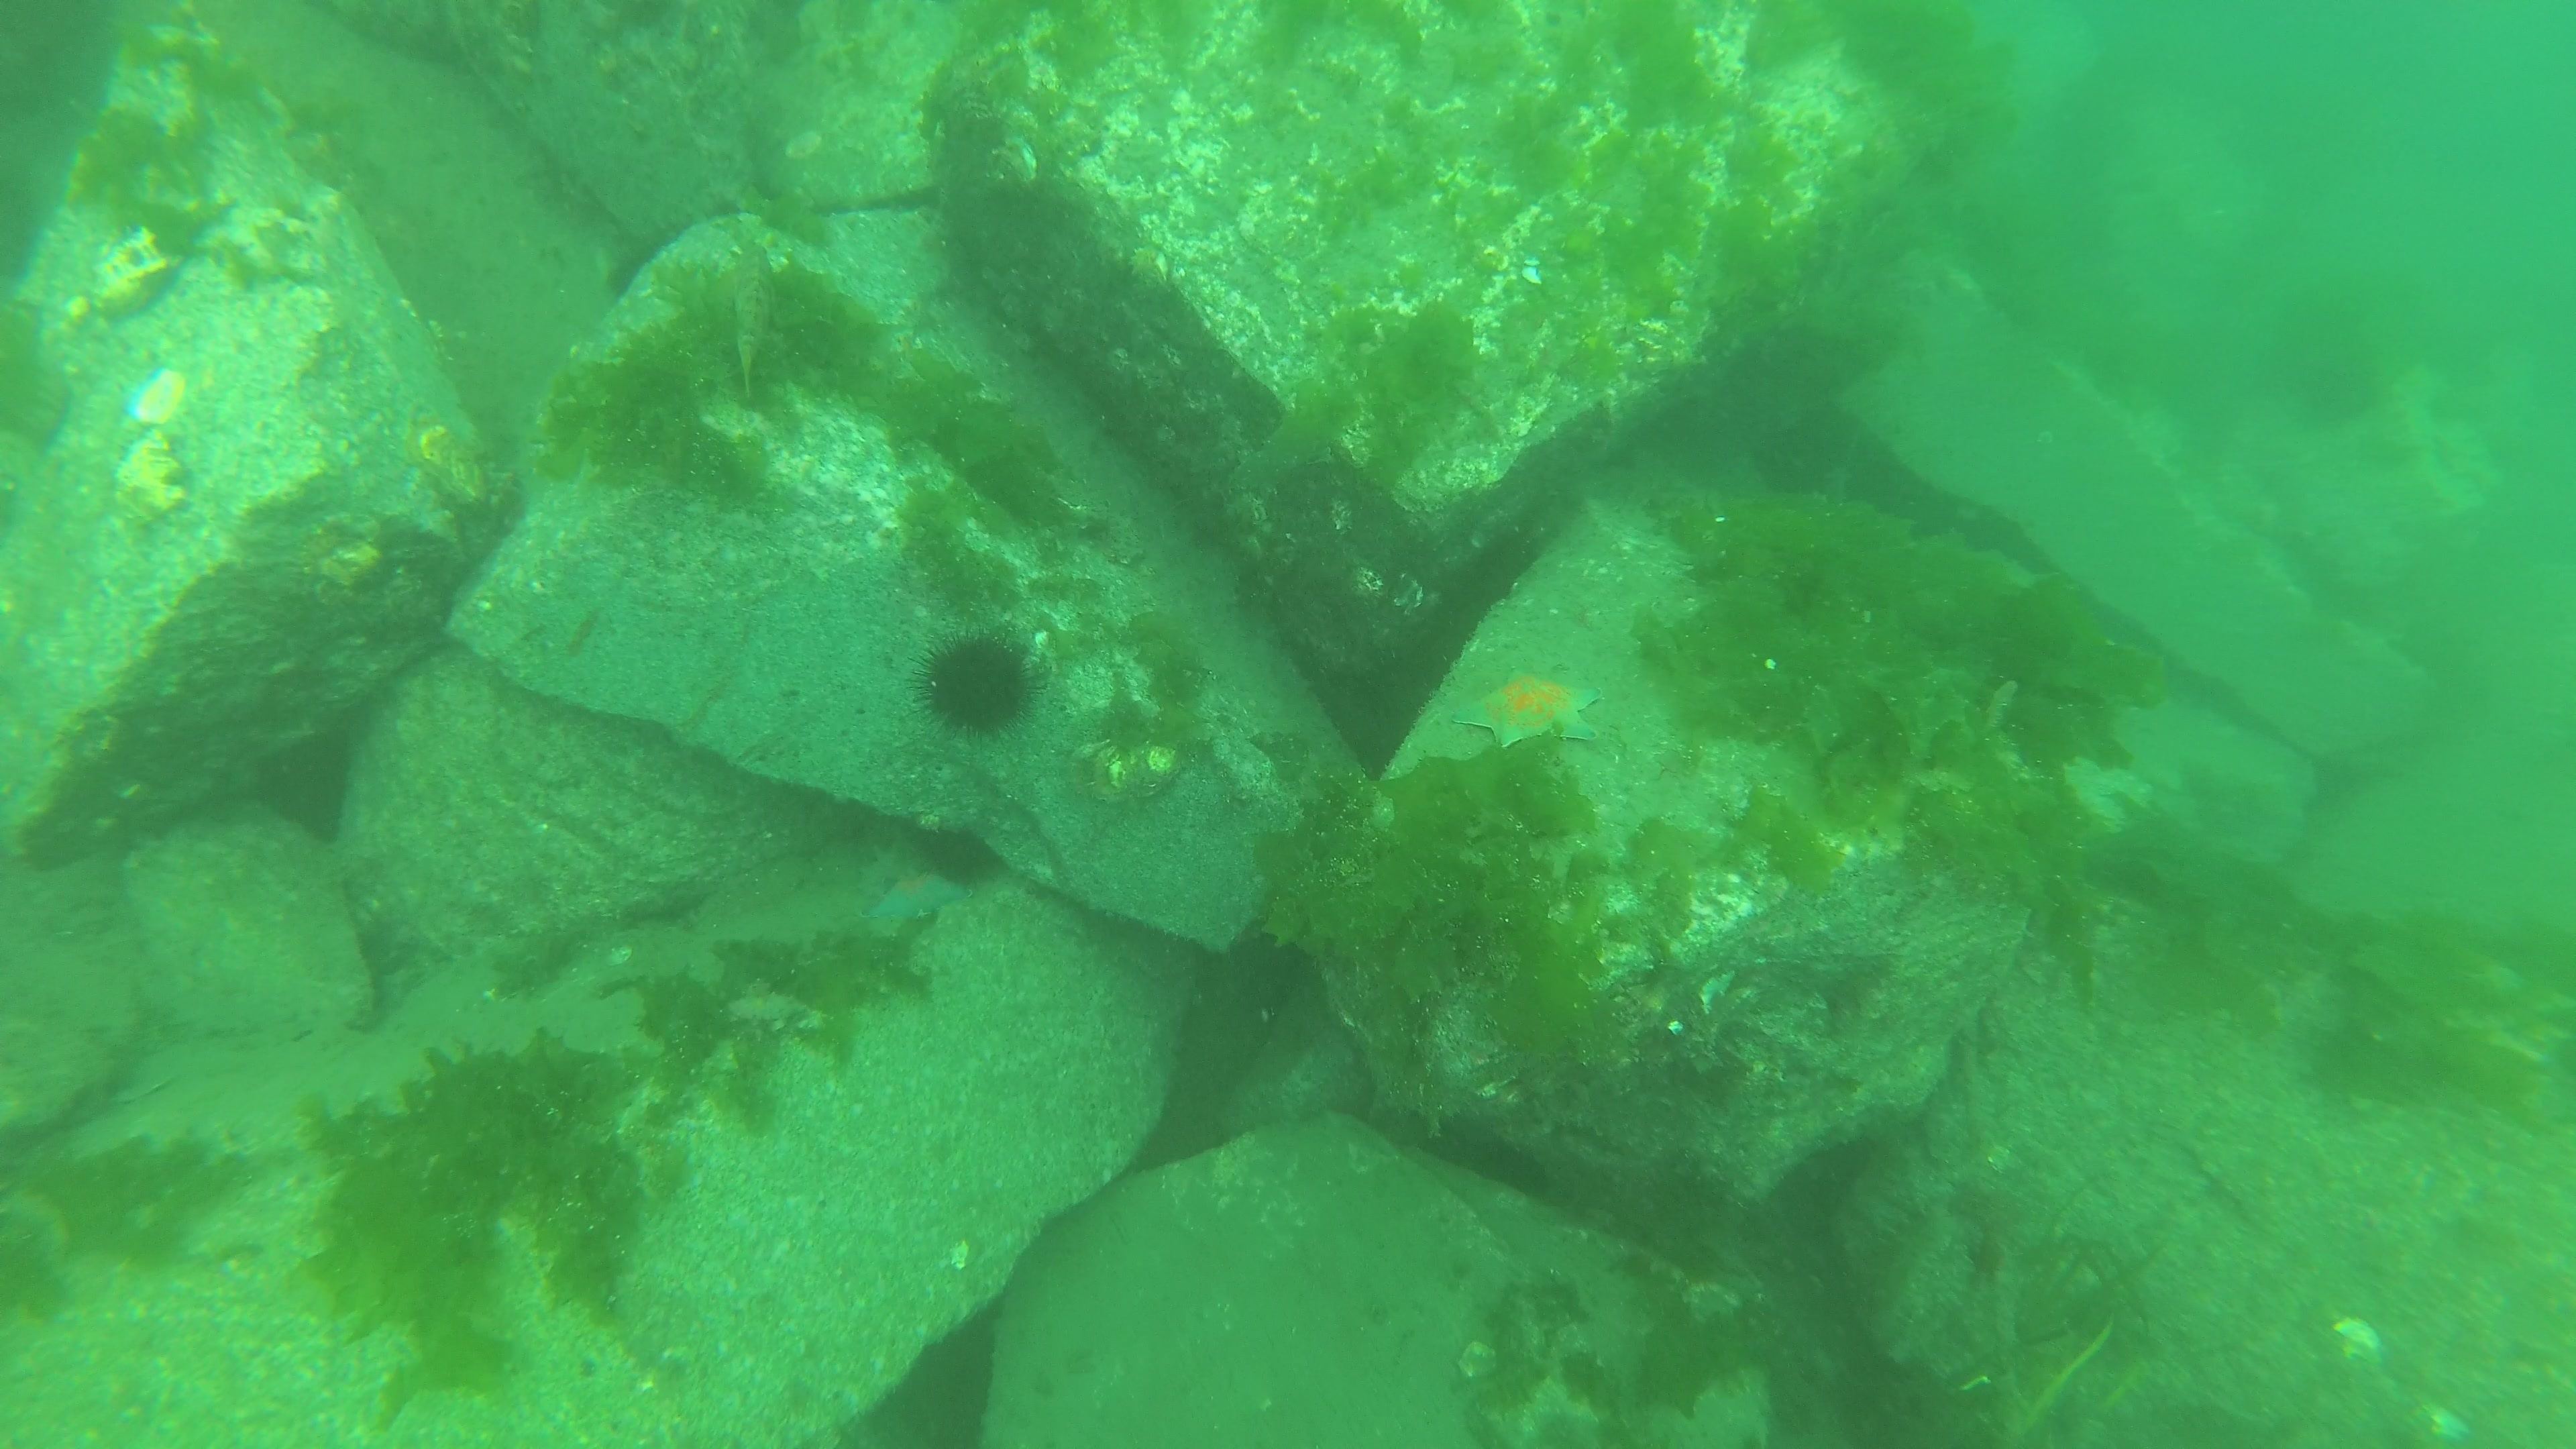echinus: (901, 625, 1047, 745), (916, 828, 998, 888), (605, 235, 678, 297)
holothurian: (860, 833, 925, 893), (727, 977, 814, 1021)
starfish: (1451, 667, 1606, 752), (858, 869, 977, 922)
